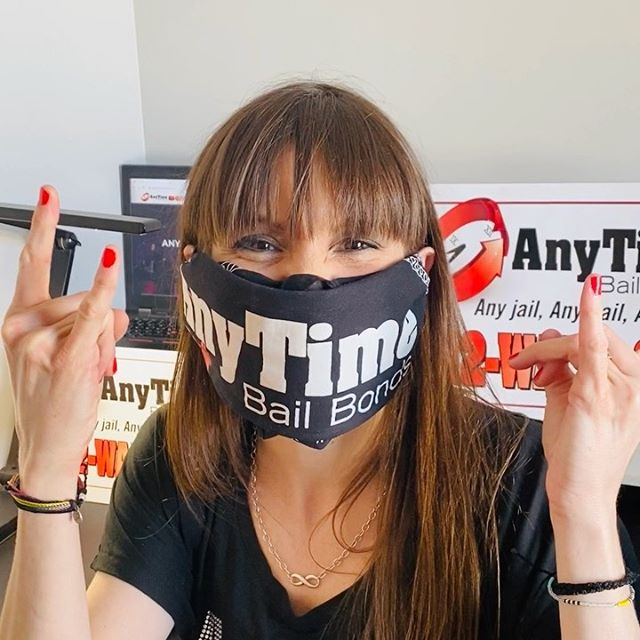homemade: (171, 249, 420, 446)
